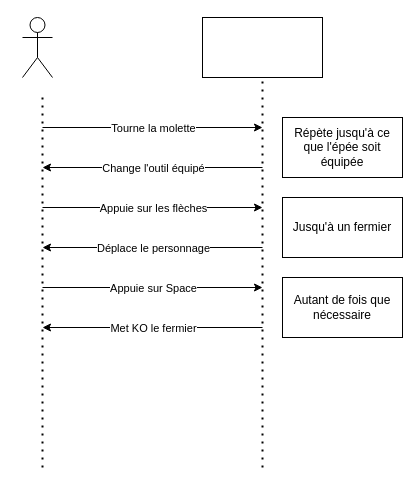
The diagram is 420 pixels wide and 487 high, and some of its shapes have lost their labels. Each missing label, with the centre of its shape:
": Système" belongs at (x=262, y=47).
":Joueur" belongs at (x=37, y=47).
